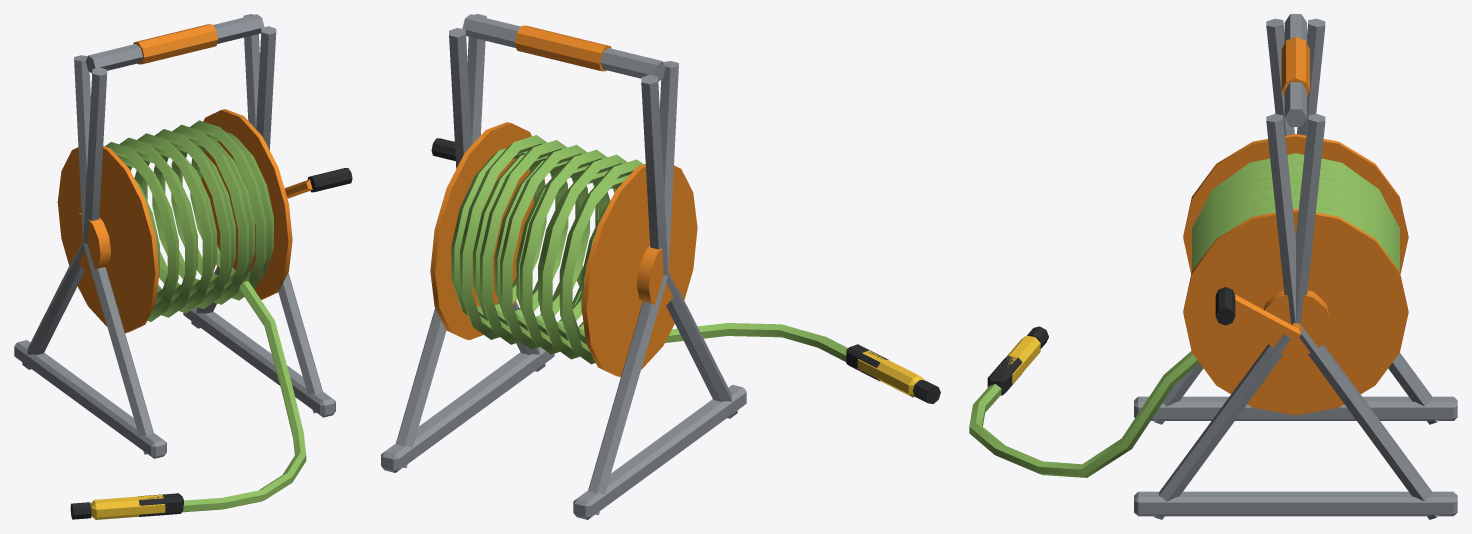
The model's file is SC_Home_Hose_Reel.gltf.
3 views of the same model, side by side, from view 1: azimuth 30°, elevation 25°; view 2: azimuth 150°, elevation 25°; view 3: azimuth 270°, elevation 25° (orthographic). The views are drawn at different scales.
Parts seen in each view (by area): view 1: SC_Home_Hose_Reel; view 2: SC_Home_Hose_Reel; view 3: SC_Home_Hose_Reel.
Boxes of the visible parts, x1=… form: SC_Home_Hose_Reel: x1=14, y1=14, x2=352, y2=519; SC_Home_Hose_Reel: x1=381, y1=14, x2=940, y2=519; SC_Home_Hose_Reel: x1=969, y1=14, x2=1457, y2=519.
Size of the model in its own units: 0.6798 by 0.6467 by 0.694.
Materials: 1 (1 with a texture image).
